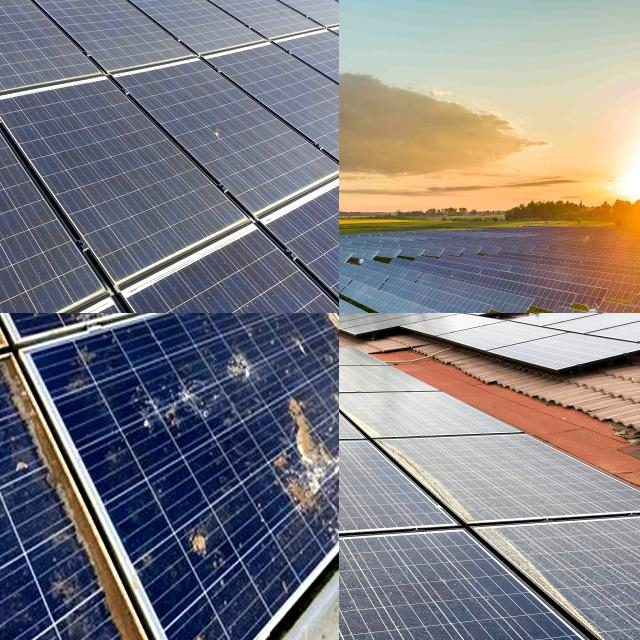bird: (162, 344, 253, 442), (272, 386, 328, 511), (170, 505, 232, 602), (0, 477, 35, 563), (6, 313, 92, 348), (55, 313, 115, 354), (124, 313, 175, 337), (0, 313, 20, 357), (0, 313, 25, 333)
dust: (339, 566, 513, 640), (0, 145, 63, 313), (66, 99, 134, 219), (339, 445, 415, 542), (198, 255, 303, 313), (581, 545, 640, 638)
